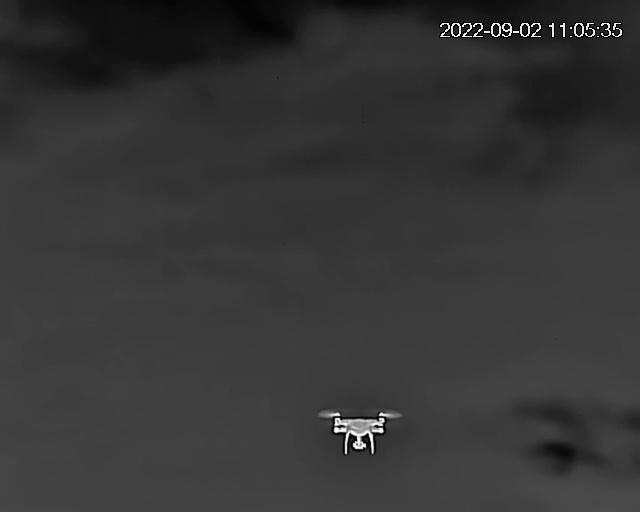DJI-Phantom: (319, 406, 404, 456)
